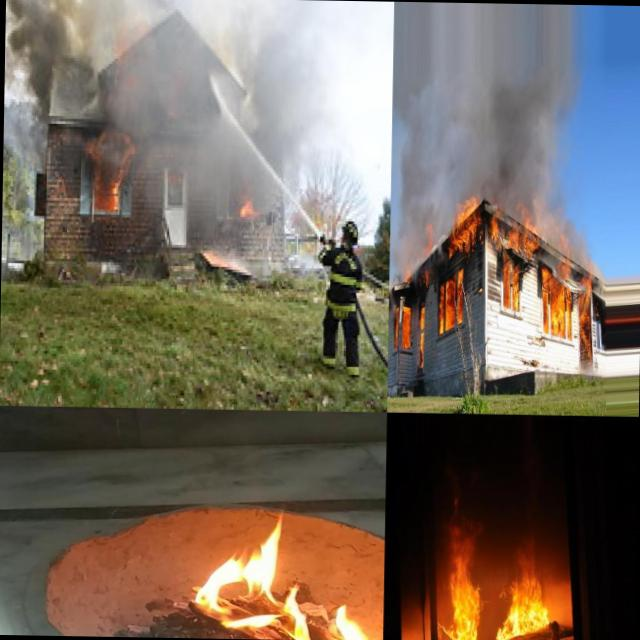fire: (188, 530, 381, 640), (540, 246, 576, 348), (487, 197, 538, 265), (498, 571, 552, 632), (448, 552, 481, 640), (442, 195, 483, 258), (577, 266, 597, 366), (438, 268, 465, 338), (395, 294, 414, 358), (500, 266, 520, 314), (108, 167, 124, 217), (417, 306, 425, 373), (423, 219, 435, 261), (238, 196, 256, 218), (418, 268, 432, 292)
smoke: (3, 0, 178, 146), (390, 88, 590, 197), (239, 0, 326, 165), (389, 192, 424, 254), (537, 198, 581, 246)
